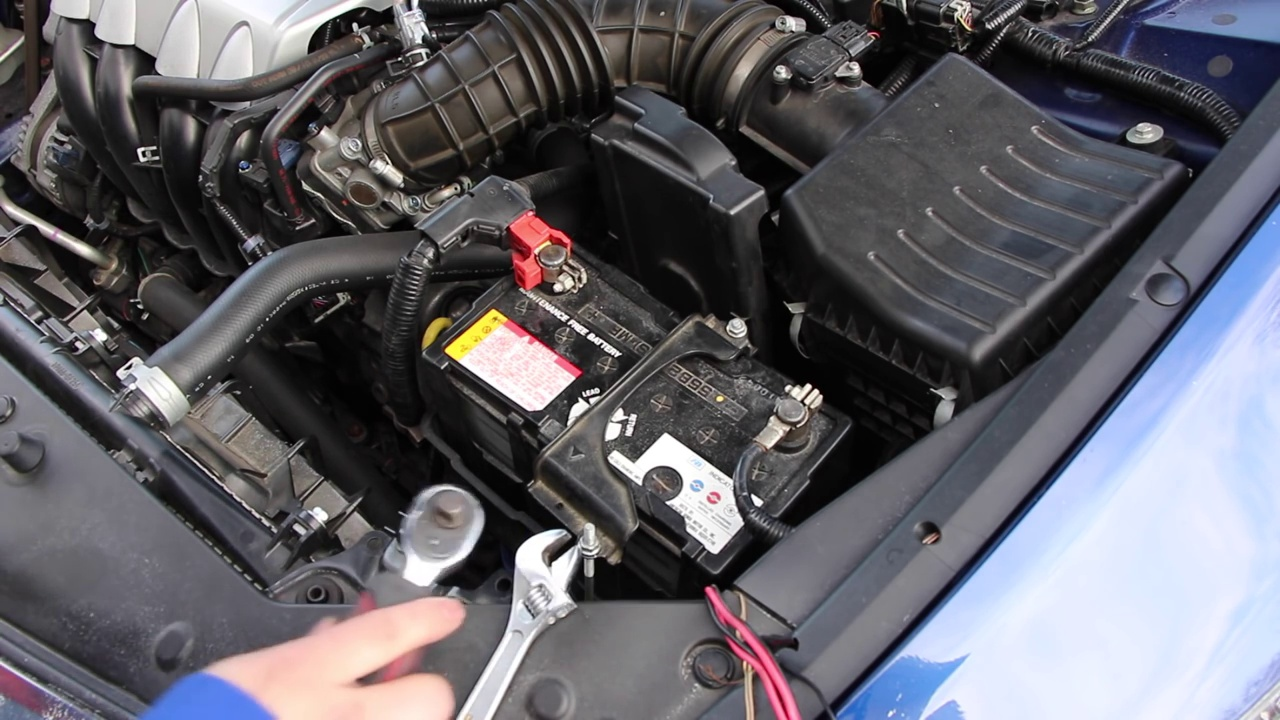battery: (434, 207, 835, 575)
neg_connected: (737, 359, 832, 489)
pos_connected: (486, 193, 585, 297)
